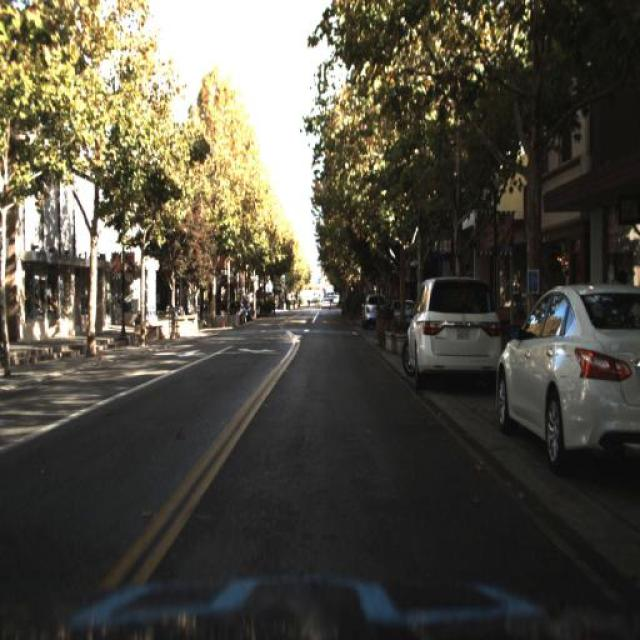car: (488, 283, 638, 465), (399, 274, 498, 390), (356, 286, 390, 329), (384, 295, 418, 326)
